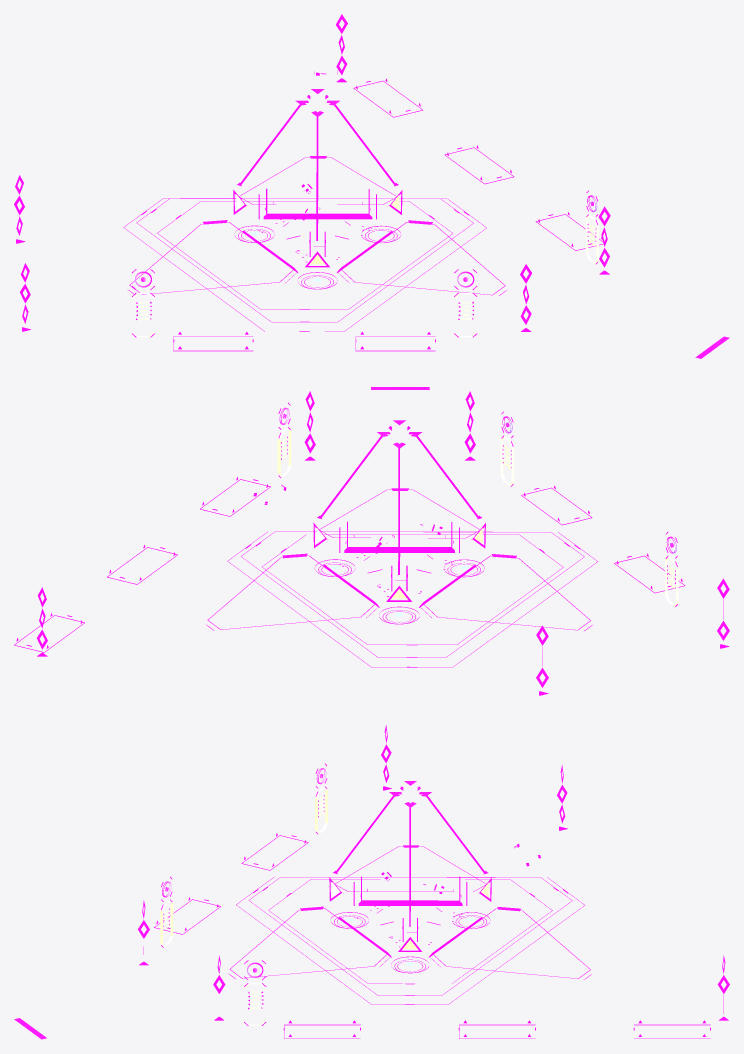
The model's file is XNR_1_UV2_0.FBX.
The picture shows the model from 3 angles, top to bottom: view 1: azimuth 30°, elevation 25°; view 2: azimuth 150°, elevation 25°; view 3: azimuth 270°, elevation 25°; orthographic projection. The views are drawn at different scales.
Parts seen in each view (by area): view 1: XNR_1_UV2_10, XNR_1_UV2_2, XNR_1_UV2_11, XNR_1_UV2_9, XNR_1_UV2_7, XNR_1_UV2_12, XNR_1_UV2_13; view 2: XNR_1_UV2_10, XNR_1_UV2_2, XNR_1_UV2_11, XNR_1_UV2_9, XNR_1_UV2_7, XNR_1_UV2_3, XNR_1_UV2_12, XNR_1_UV2_13; view 3: XNR_1_UV2_10, XNR_1_UV2_7, XNR_1_UV2_11, XNR_1_UV2_9, XNR_1_UV2_2, XNR_1_UV2_12, XNR_1_UV2_3, XNR_1_UV2_13.
Boxes of the visible parts, x1,y1,x2,y2 form: XNR_1_UV2_10: [123, 198, 486, 331]; XNR_1_UV2_2: [14, 14, 610, 331]; XNR_1_UV2_11: [233, 89, 402, 267]; XNR_1_UV2_9: [127, 156, 506, 295]; XNR_1_UV2_7: [173, 78, 603, 351]; XNR_1_UV2_12: [243, 213, 392, 272]; XNR_1_UV2_13: [235, 225, 401, 289]; XNR_1_UV2_10: [227, 531, 597, 667]; XNR_1_UV2_2: [37, 391, 729, 695]; XNR_1_UV2_11: [313, 420, 485, 601]; XNR_1_UV2_9: [206, 488, 592, 630]; XNR_1_UV2_7: [14, 477, 685, 652]; XNR_1_UV2_3: [277, 428, 678, 605]; XNR_1_UV2_12: [323, 547, 475, 607]; XNR_1_UV2_13: [314, 559, 484, 624]; XNR_1_UV2_10: [236, 877, 584, 1004]; XNR_1_UV2_7: [154, 833, 710, 1038]; XNR_1_UV2_11: [329, 781, 491, 951]; XNR_1_UV2_9: [229, 845, 591, 979]; XNR_1_UV2_2: [138, 725, 729, 1020]; XNR_1_UV2_12: [339, 900, 482, 957]; XNR_1_UV2_3: [160, 787, 327, 1025]; XNR_1_UV2_13: [330, 912, 490, 973].
Bounding box in the file's own units: 53.97 × 15.55 × 65.47.
Materials: 19 (19 with a texture image).
